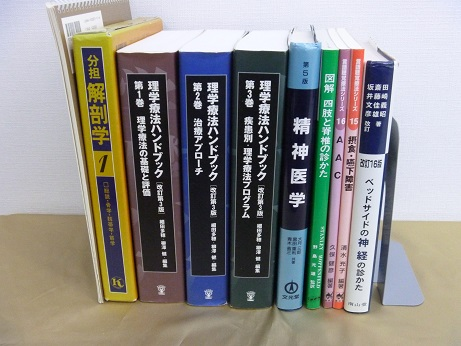book: (175, 48, 236, 305), (231, 47, 287, 313), (123, 48, 177, 301), (278, 38, 318, 312)
